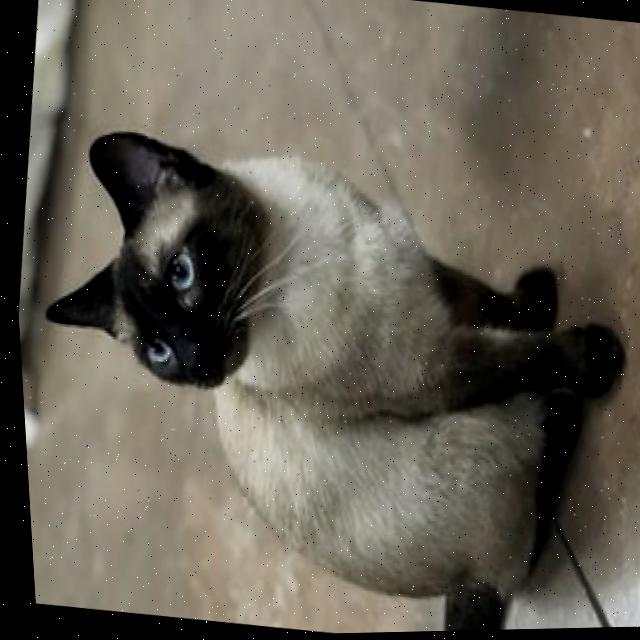Siamese: (5, 106, 640, 640)
